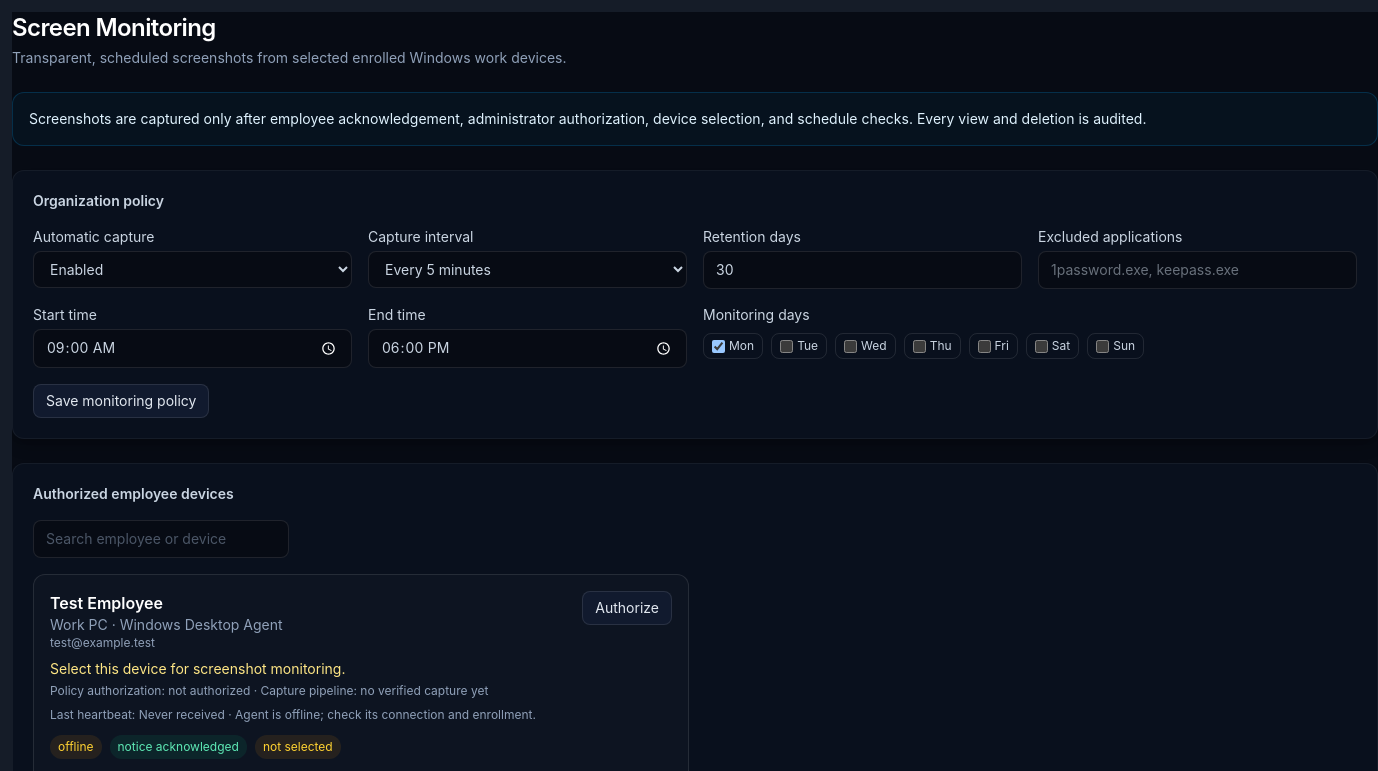
Test: saves existing policy settings and displays confirmation
What coordinates should you click on to do the following:
click the button "Save monitoring policy"
I would click on:
 (121, 401)
Its box is 33,384 -> 209,418.
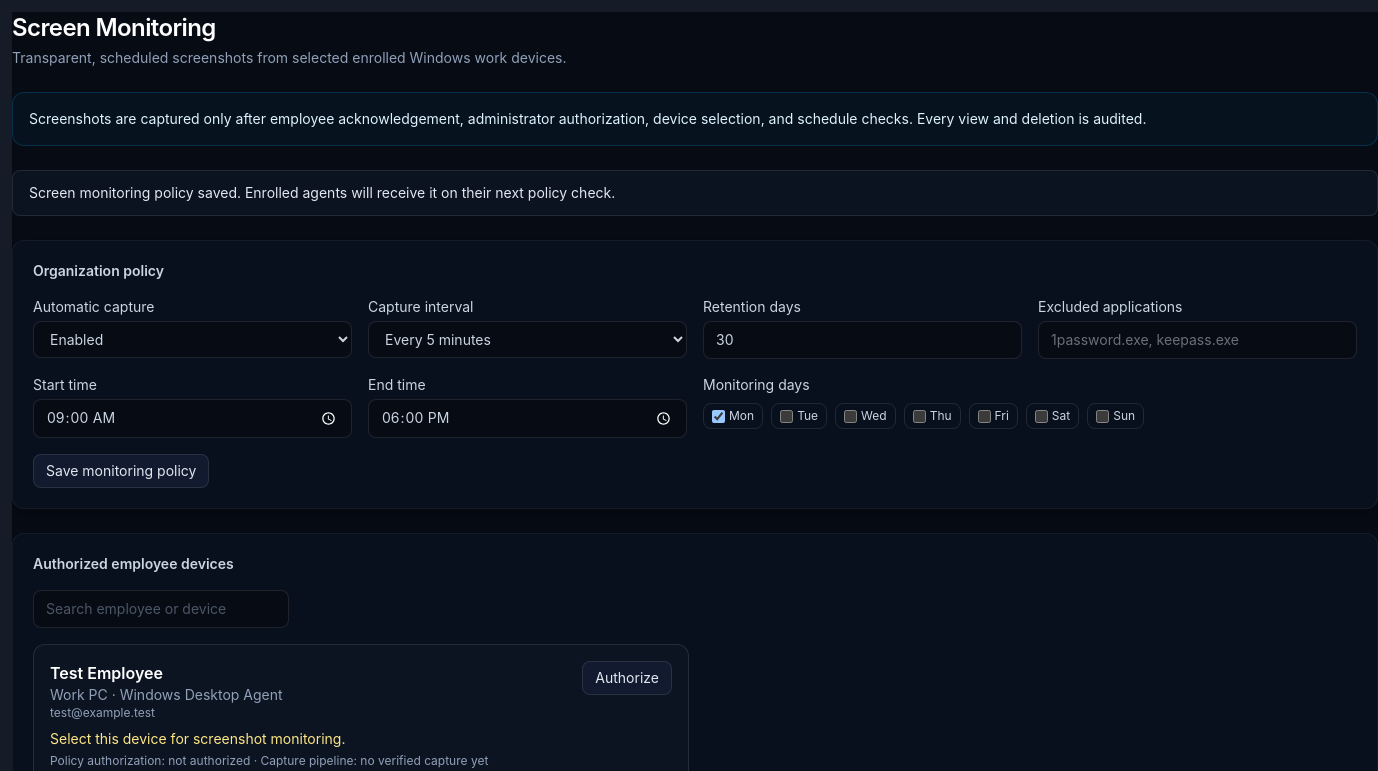
Check: the text "Screen monitoring policy saved" is shown, box 29,184 -> 615,201
